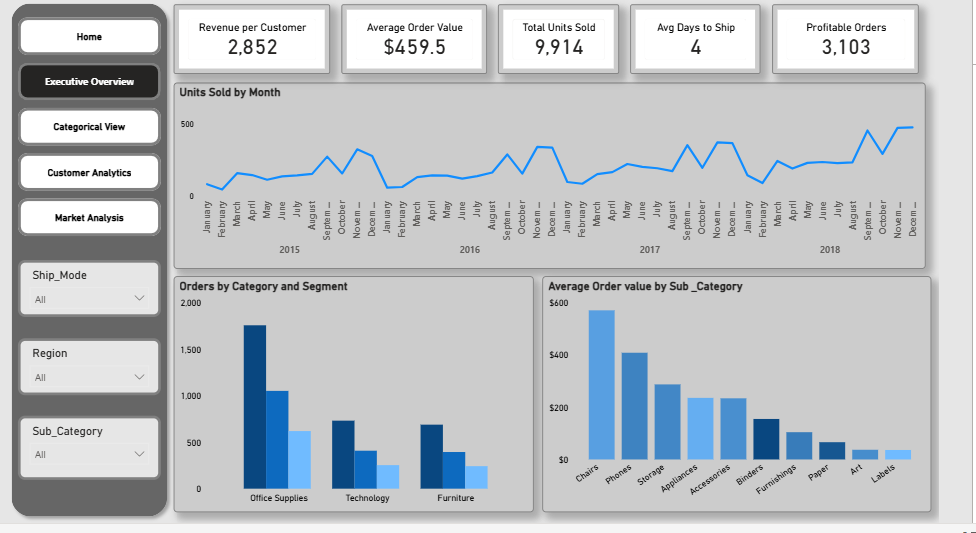

The dashboard page shown, as its layout file describes it:
{"tool":"powerbi","page":{"name":"Executive Overview","canvas":[1280,720],"ordinal":1},"visuals":[{"type":"shape","box":[0,0,231.1,720.4],"z":0},{"type":"lineChart","title":"Units Sold by  Month","fields":{"Y":["order_details_fact.Total Units Sold"],"Category":["orders_dim.Start of Month.Variation.Date Hierarchy.Year","orders_dim.Start of Month.Variation.Date Hierarchy.Month"]},"box":[231.1,117.3,1029.7,255.9],"z":1000},{"type":"cardVisual","fields":{"Data":["order_details_fact.Average Order Value"]},"box":[460.9,9.5,199.1,96],"z":2000},{"type":"cardVisual","fields":{"Data":["order_details_fact.Total Units Sold"]},"box":[675.4,9.5,165.9,96],"z":3000},{"type":"cardVisual","fields":{"Data":["customers_dim.Revenue per Customer"]},"box":[231.1,9.5,214.5,96],"z":4000},{"type":"cardVisual","fields":{"Data":["order_details_fact.Profitable Orders"]},"box":[1051,9.5,201.4,96],"z":5000},{"type":"cardVisual","fields":{"Data":["orders_dim.Avg Days to Ship"]},"box":[856.7,9.5,178.9,96],"z":6000},{"type":"clusteredColumnChart","title":"Orders by Category and Segment","fields":{"Category":["products_dim.Category"],"Y":["order_details_fact.Total Orders"],"Series":["customers_dim.Segment"]},"box":[231.1,382.7,492.9,323.5],"z":7000},{"type":"clusteredColumnChart","title":"Average Order value by Sub _Category ","fields":{"Category":["products_dim.Sub_Category"],"Y":["order_details_fact.Average Order Value"]},"box":[735.8,382.7,533.2,323.5],"z":8000},{"type":"slicer","fields":{"Values":["customers_dim.Region"]},"box":[18,467,196,78],"z":12500},{"type":"pageNavigator","box":[18,28,196,300],"z":13000},{"type":"slicer","fields":{"Values":["orders_dim.Ship_Mode"]},"box":[18,360,196,78],"z":13500},{"type":"slicer","fields":{"Values":["products_dim.Sub_Category"]},"box":[18,574,196,88],"z":14000}]}

Visuals, with their boxes on the page's 1280x720 design canvas (x1, y1, x2, y2). These are canvas units, not pixel positions in the 976x533 screenshot, which may show the page scaled, cropped or inside an application window:
shape: <box>0,0,231,720</box>
"Units Sold by  Month" lineChart: <box>231,117,1261,373</box>
cardVisual - order_details_fact.Average Order Value: <box>461,10,660,106</box>
cardVisual - order_details_fact.Total Units Sold: <box>675,10,841,106</box>
cardVisual - customers_dim.Revenue per Customer: <box>231,10,446,106</box>
cardVisual - order_details_fact.Profitable Orders: <box>1051,10,1252,106</box>
cardVisual - orders_dim.Avg Days to Ship: <box>857,10,1036,106</box>
"Orders by Category and Segment" clusteredColumnChart: <box>231,383,724,706</box>
"Average Order value by Sub _Category " clusteredColumnChart: <box>736,383,1269,706</box>
slicer - customers_dim.Region: <box>18,467,214,545</box>
pageNavigator: <box>18,28,214,328</box>
slicer - orders_dim.Ship_Mode: <box>18,360,214,438</box>
slicer - products_dim.Sub_Category: <box>18,574,214,662</box>
